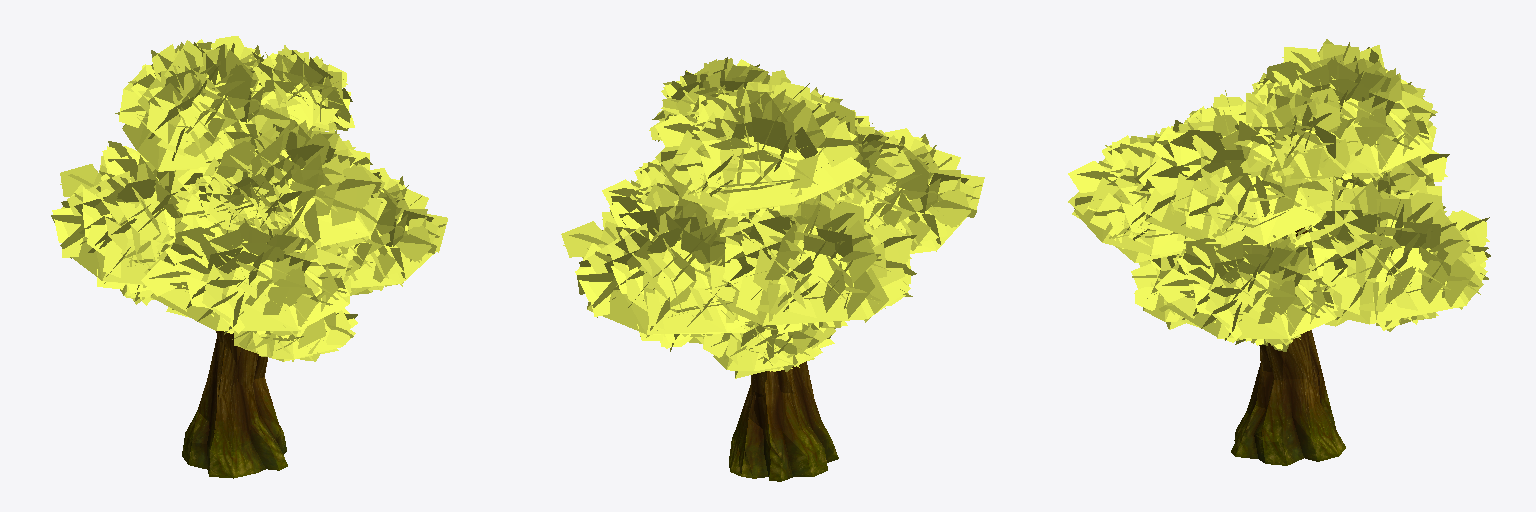
3 renders of one model, left to right at view 1: azimuth 30°, elevation 25°; view 2: azimuth 150°, elevation 25°; view 3: azimuth 270°, elevation 25°, orthographic.
Parts seen in each view (by area): view 1: tree_1_LOD2, tree_1_LOD1, tree_1_LOD0; view 2: tree_1_LOD2, tree_1_LOD1, tree_1_LOD0; view 3: tree_1_LOD2, tree_1_LOD1, tree_1_LOD0.
Boxes of the visible parts, x1,y1,x2,y2 form: tree_1_LOD2: [60, 40, 447, 478]; tree_1_LOD1: [51, 36, 447, 477]; tree_1_LOD0: [51, 36, 446, 361]; tree_1_LOD2: [563, 78, 984, 481]; tree_1_LOD1: [561, 58, 984, 481]; tree_1_LOD0: [562, 57, 982, 371]; tree_1_LOD2: [1068, 40, 1490, 465]; tree_1_LOD1: [1068, 39, 1489, 458]; tree_1_LOD0: [1069, 39, 1490, 351].
Size of the model in its own units: 13.8 by 16.13 by 15.62.
2 materials, 1 textured.